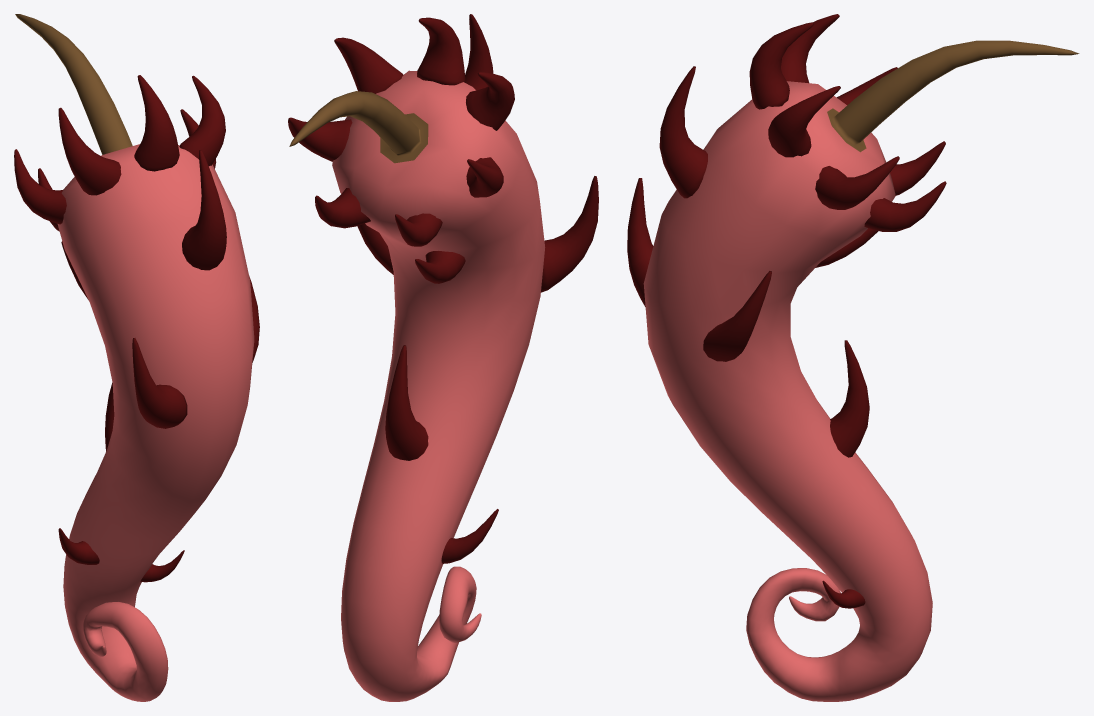
The model's file is hot_paper_1.fbx.
3 views of the same model, side by side, from view 1: azimuth 30°, elevation 25°; view 2: azimuth 150°, elevation 25°; view 3: azimuth 270°, elevation 25° (orthographic). The views are drawn at different scales.
Parts seen in each view (by area): view 1: pPlane1; view 2: pPlane1; view 3: pPlane1.
Boxes of the visible parts, box(x1,y1,x2,y2) form: pPlane1: box(14, 14, 259, 701); pPlane1: box(288, 14, 598, 701); pPlane1: box(627, 14, 1079, 701).
Size of the model in its own units: 3.2 by 10.11 by 6.12.
